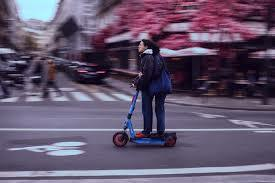multiple: (112, 34, 180, 152)
